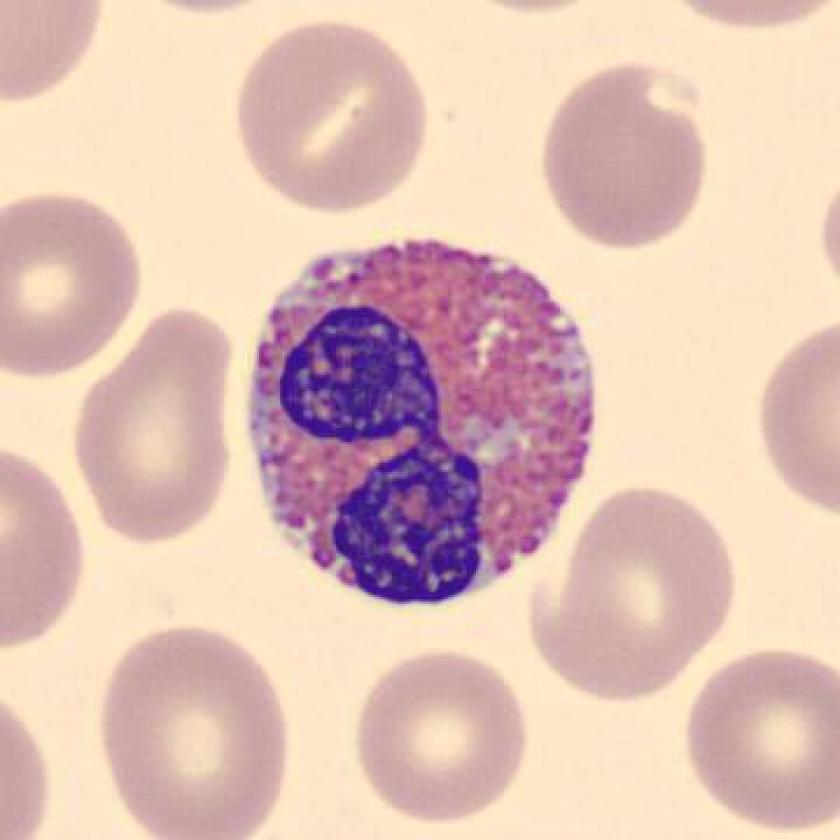eosinophil: (230, 226, 617, 621)
